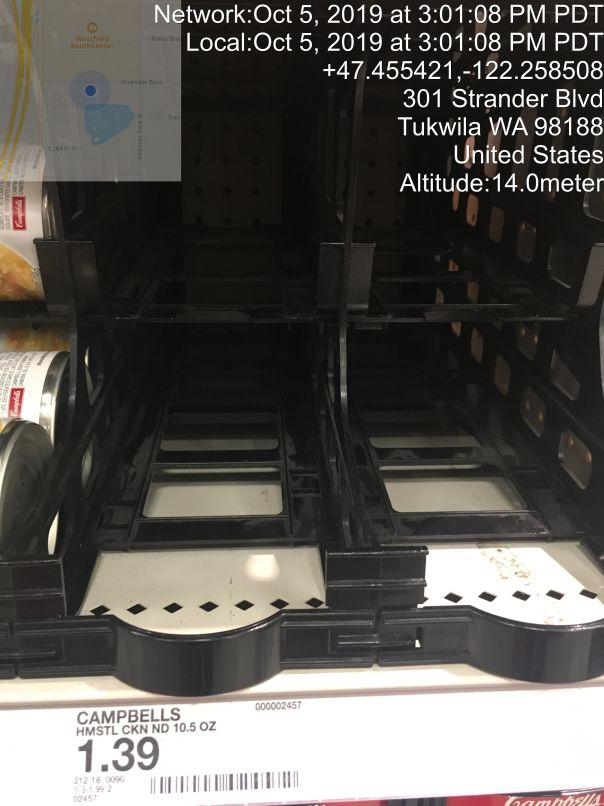Label: (64, 699, 325, 803)
Location: (391, 85, 604, 169)
Time: (147, 1, 604, 57)
Void: (94, 90, 512, 558)
